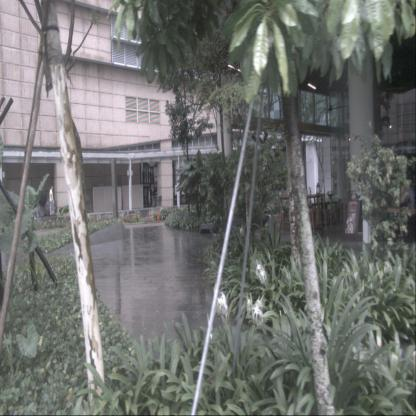human-pedestrian-adult: (398, 177, 414, 238), (37, 186, 47, 218), (49, 184, 56, 216)
movable_object-trafficcone: (156, 210, 160, 222)
